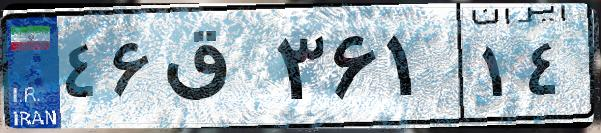1: (385, 28, 445, 110), (475, 38, 525, 113)
3: (270, 28, 330, 110)
4: (57, 26, 110, 100), (525, 38, 570, 115)
6: (330, 28, 385, 110), (110, 28, 158, 98)
ق: (158, 20, 270, 120)
